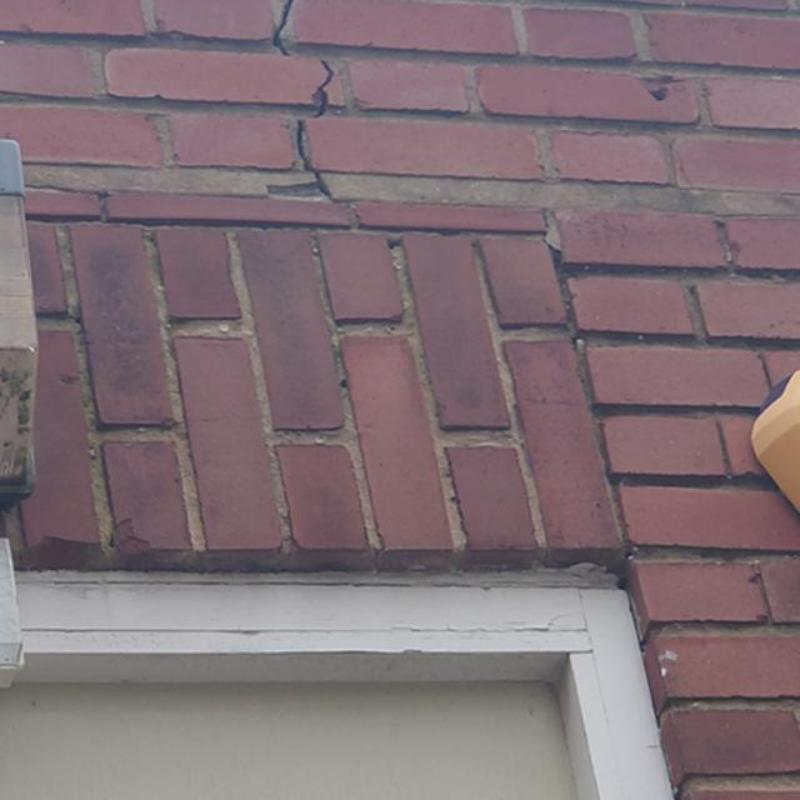pothole: (297, 120, 335, 200), (310, 60, 335, 117), (273, 0, 293, 55)
